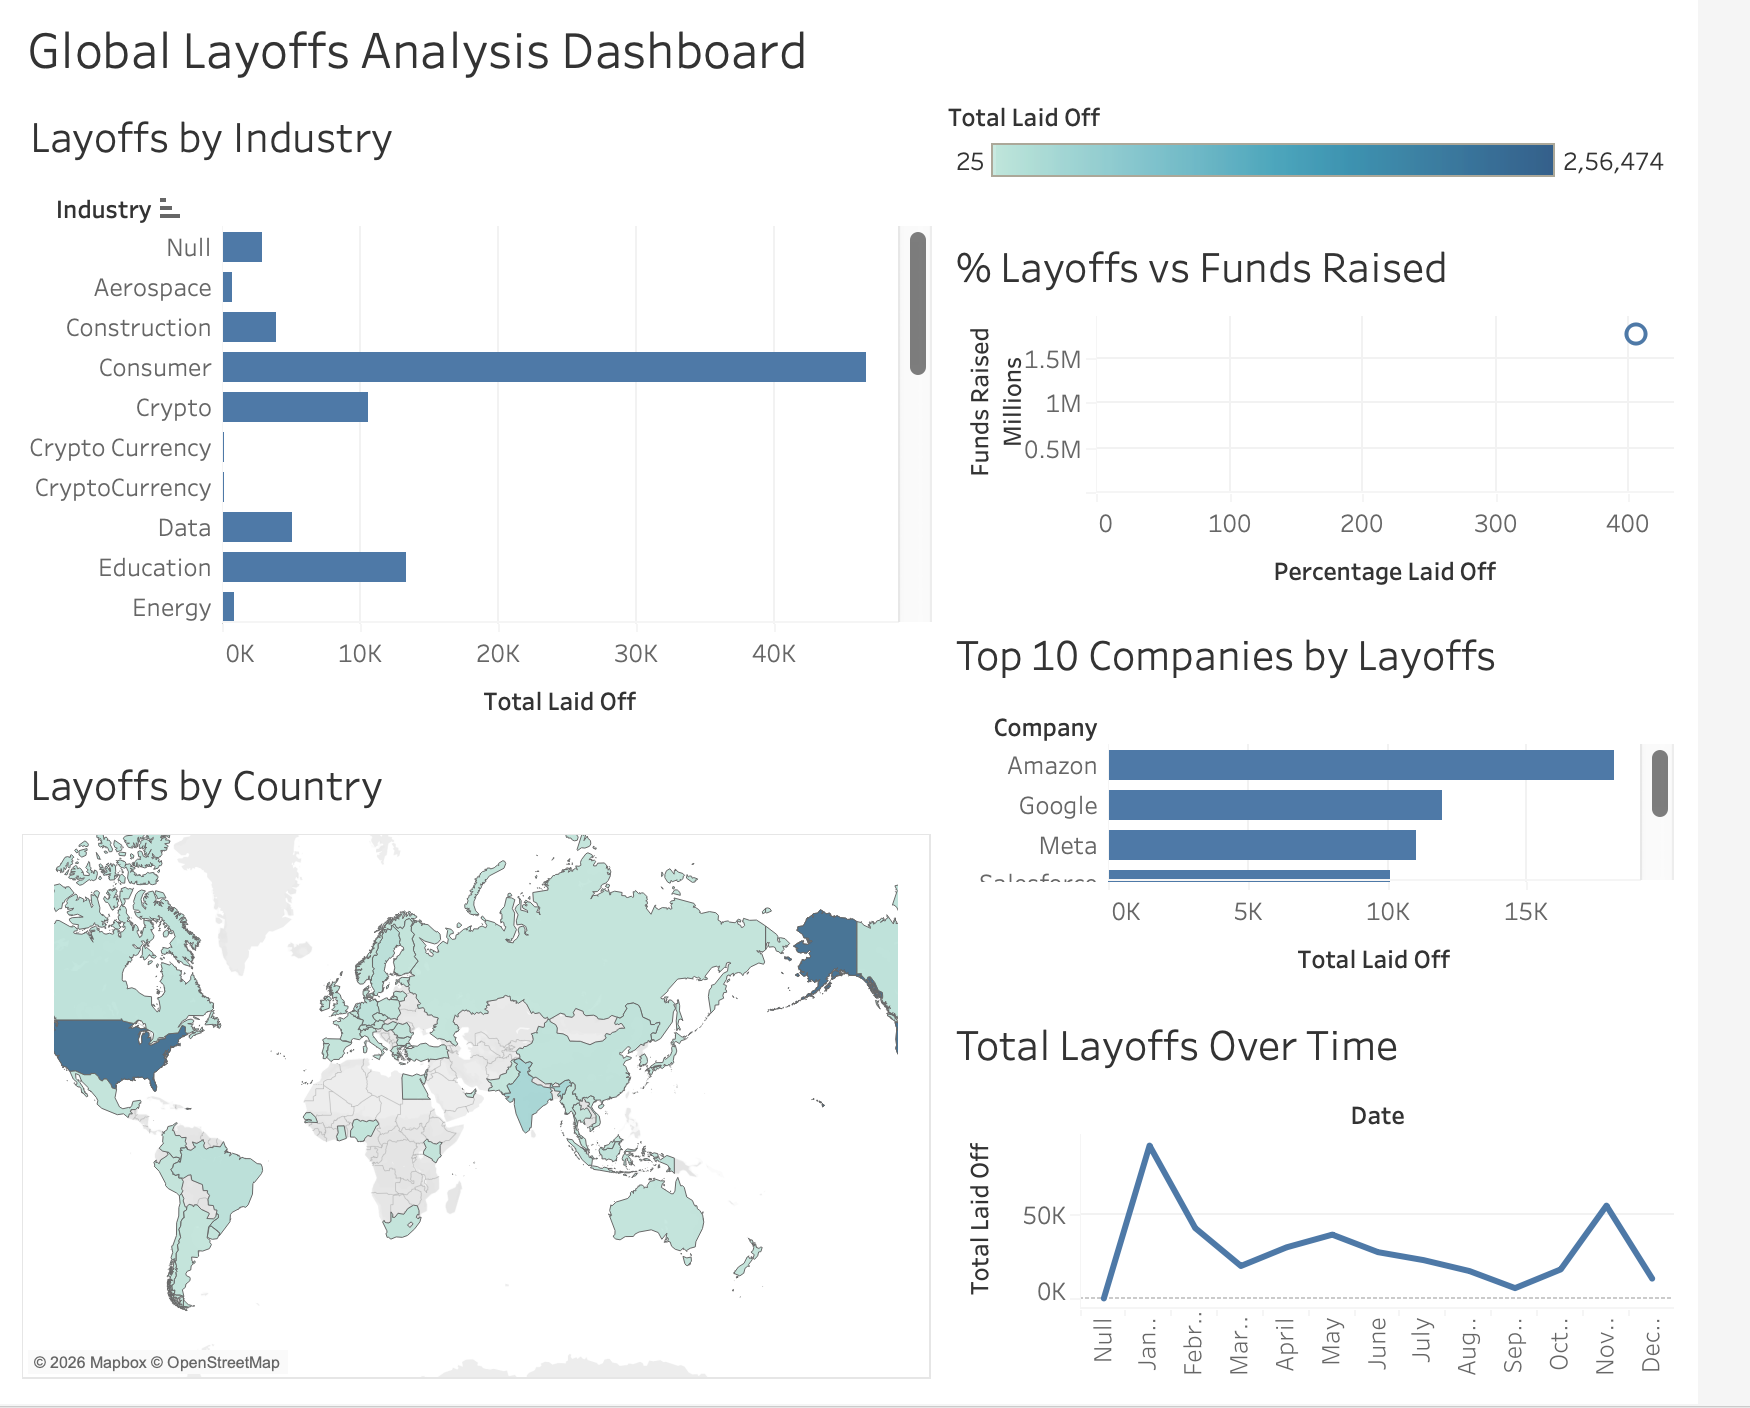

This screenshot's page, from the dashboard's own definition file:
{"tool":"tableau","page":{"name":"Global Layoffs Analysis Dashboard","canvas":[1000,1000],"units":"permille","ordinal":0},"visuals":[{"type":"title","box":[9.4,11.3,981.2,59.5]},{"type":"worksheet","title":"Layoffs by Industry","mark":"Bar","rows":["industry"],"cols":["total_laid_off"],"box":[9.4,70.8,544.7,458.9]},{"type":"legend","title":"Layoffs by Country","param":"[federated.0s7vemf1dow1v718585020515dhw].[sum:total_laid_off:qk]","box":[554.1,70.8,436.5,92.1]},{"type":"worksheet","title":"% Layoffs vs Funds Raised","mark":"Automatic","rows":["funds_raised_millions"],"cols":["percentage_laid_off"],"box":[554.1,162.9,436.5,275.3]},{"type":"worksheet","title":"Top 10 Companies by Layoffs","mark":"Automatic","rows":["company"],"cols":["total_laid_off"],"box":[554.1,438.2,436.5,275.3]},{"type":"worksheet","title":"Layoffs by Country","mark":"Multipolygon","box":[9.4,529.7,544.7,458.9]},{"type":"worksheet","title":"Total Layoffs Over Time","mark":"Line","rows":["total_laid_off"],"cols":["date"],"box":[554.1,713.4,436.5,275.3]}]}

Visuals, with their boxes on the dashboard's canvas, which has no fixed pixel size, in thousandths of its width and height (x1, y1, x2, y2). These are canvas units, not pixel positions in the 1750x1408 screenshot, which may show the page scaled, cropped or inside an application window:
title: pyautogui.locateOnScreen(9, 11, 991, 71)
"Layoffs by Industry" worksheet (Bar marks): pyautogui.locateOnScreen(9, 71, 554, 530)
"Layoffs by Country" legend: pyautogui.locateOnScreen(554, 71, 991, 163)
"% Layoffs vs Funds Raised" worksheet: pyautogui.locateOnScreen(554, 163, 991, 438)
"Top 10 Companies by Layoffs" worksheet: pyautogui.locateOnScreen(554, 438, 991, 714)
"Layoffs by Country" worksheet (Multipolygon marks): pyautogui.locateOnScreen(9, 530, 554, 989)
"Total Layoffs Over Time" worksheet (Line marks): pyautogui.locateOnScreen(554, 713, 991, 989)
